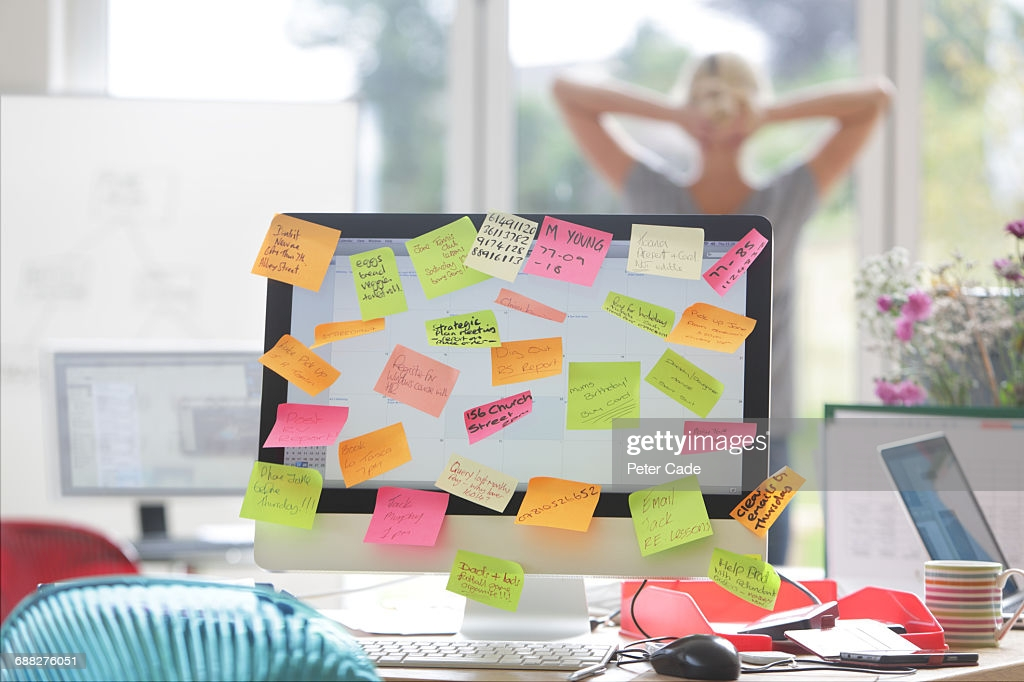Note: (407, 224, 493, 297), (628, 483, 716, 553), (253, 219, 335, 294), (374, 344, 457, 415), (533, 216, 611, 288), (239, 463, 321, 529), (563, 364, 640, 434), (647, 350, 724, 420), (366, 490, 450, 549), (433, 457, 518, 515), (733, 469, 804, 537), (518, 477, 601, 533), (444, 552, 525, 609), (261, 337, 339, 396), (709, 550, 782, 613), (629, 223, 706, 282), (676, 304, 755, 359), (707, 233, 772, 299), (333, 430, 411, 483), (467, 218, 529, 283), (349, 250, 405, 318), (262, 406, 345, 447), (466, 394, 534, 443), (490, 340, 564, 382), (605, 294, 673, 339), (499, 286, 572, 326), (426, 316, 502, 350), (315, 319, 387, 348)
